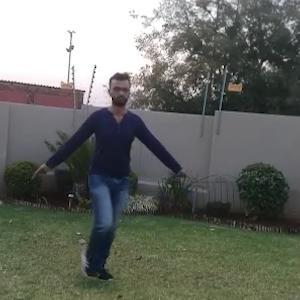land: (44, 86, 162, 248)
